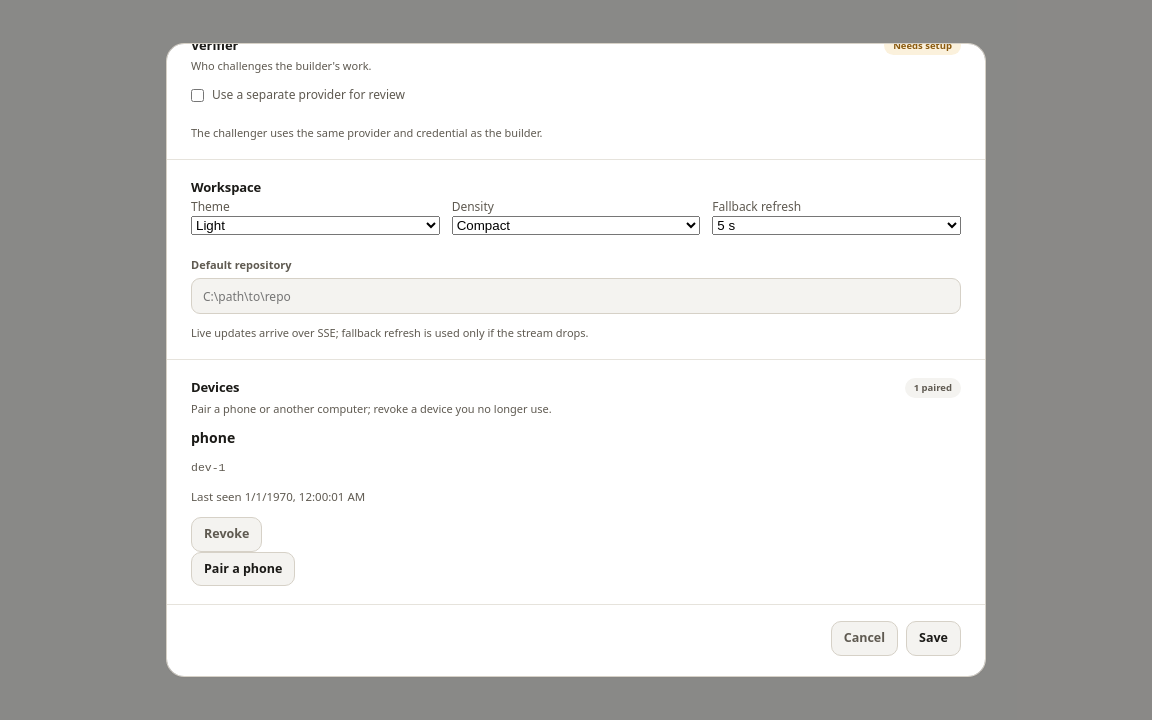
lists, pairs and revokes devices
This screenshot has width=1152, height=720.
Later steps or results of the test are not shown.
(page scrolled)
Expected: the text "phone" is shown, [191,428,235,447]
Click the button "Pair a phone" at [243, 569], box [191,552,295,586]
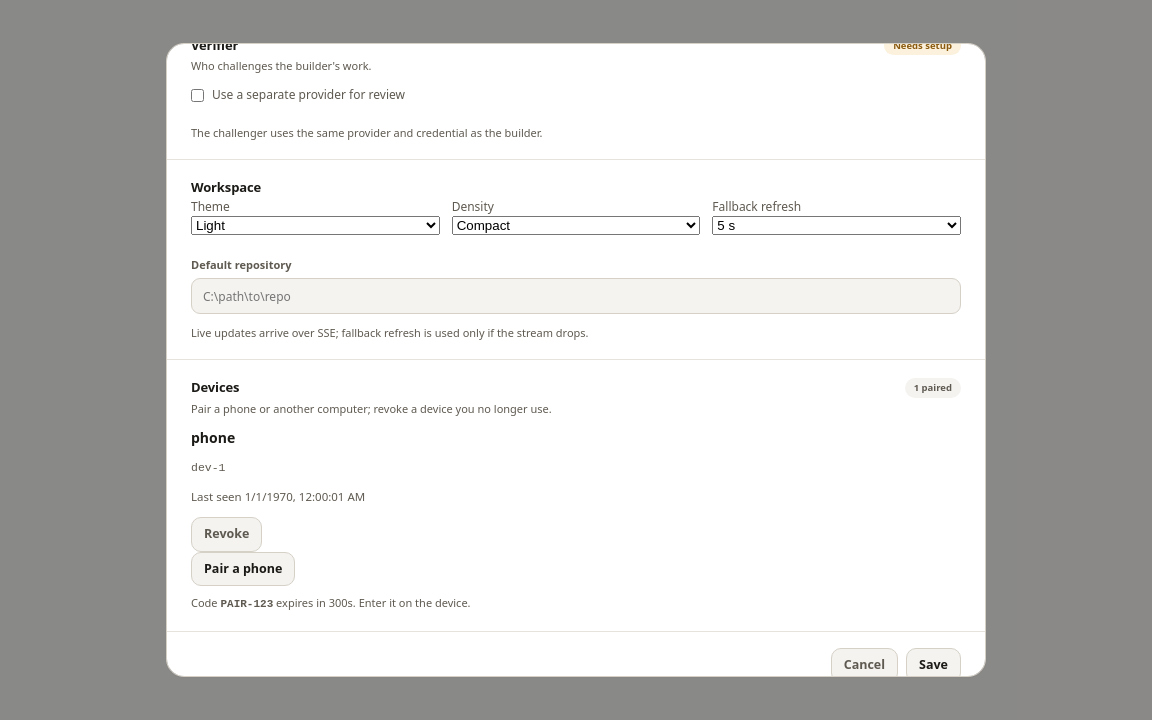
Now the text "PAIR-123" is shown, box [220,598,273,610]
